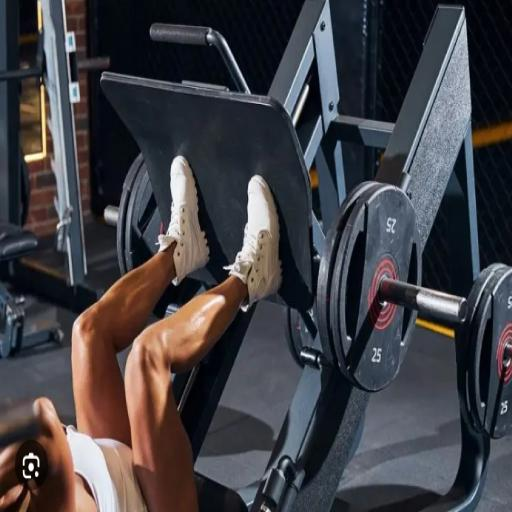Leg Press: (54, 36, 506, 463)
